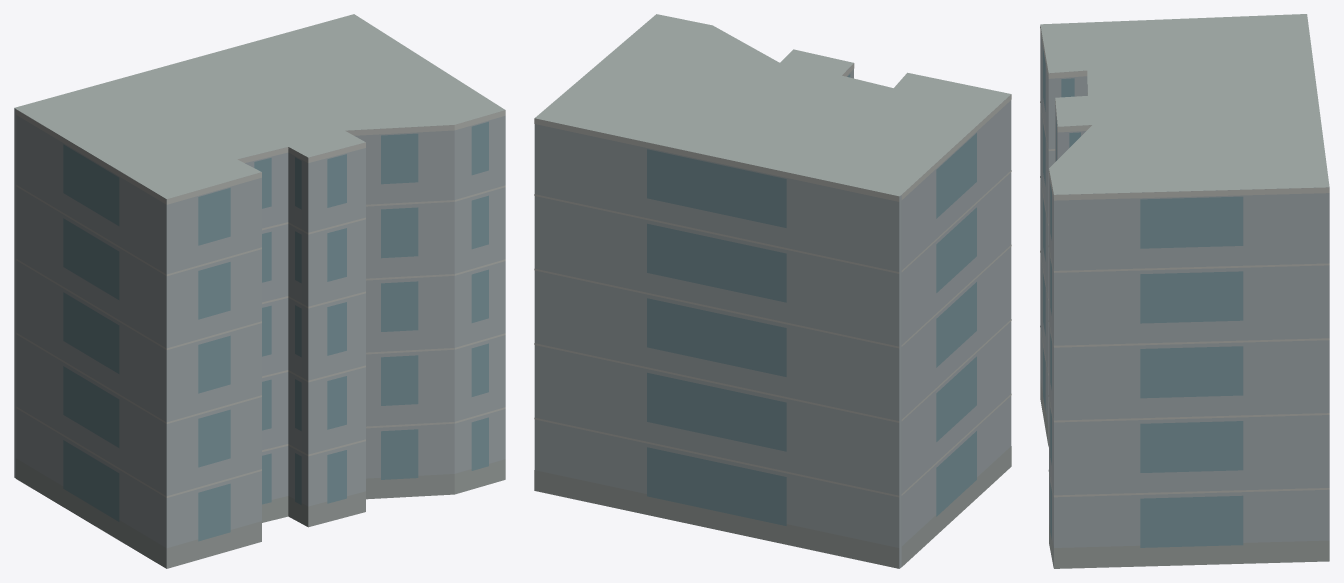
Rendered from survey-upis-32748071.glb.
3 views of the same model, side by side, from view 1: azimuth 30°, elevation 25°; view 2: azimuth 150°, elevation 25°; view 3: azimuth 270°, elevation 25° (orthographic).
Parts seen in each view (by area): view 1: survey-upis-32748071.tmp; view 2: survey-upis-32748071.tmp; view 3: survey-upis-32748071.tmp.
Part boxes in pixels (box(x1,y1,x2,y2)): survey-upis-32748071.tmp: box(14, 14, 505, 568); survey-upis-32748071.tmp: box(534, 14, 1011, 568); survey-upis-32748071.tmp: box(1040, 14, 1329, 568).
Size of the model in its own units: 16.62 by 16 by 11.24.
